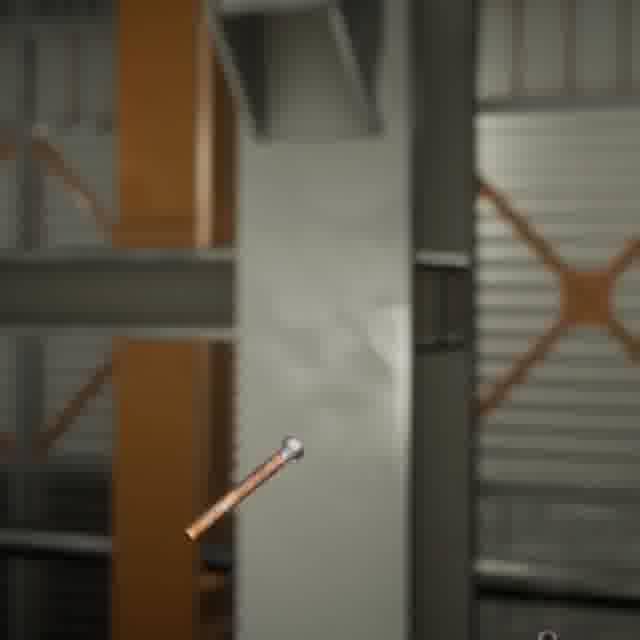bolt: (179, 431, 308, 545)
